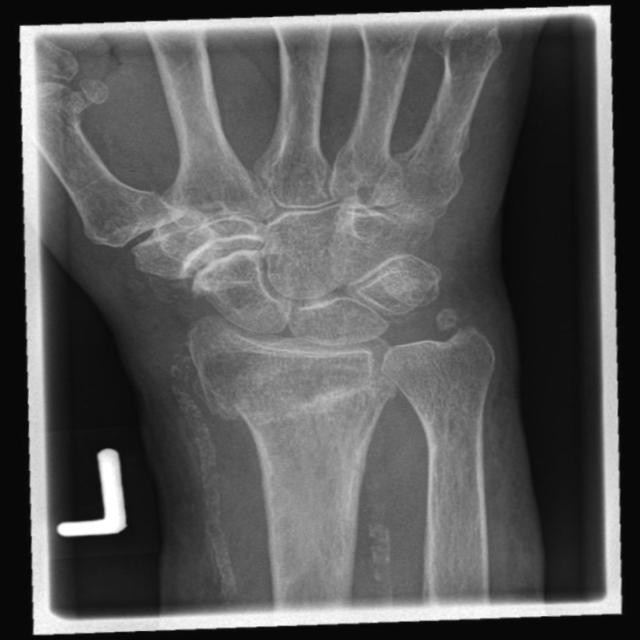Oblique Displaced: (27, 71, 116, 169)
